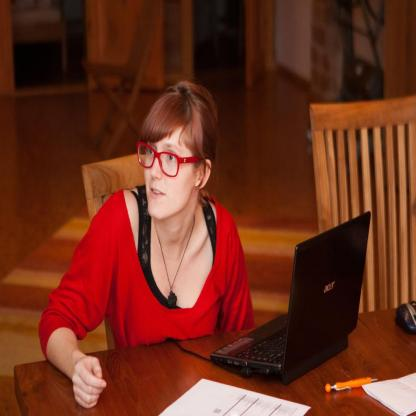board: (209, 210, 371, 381)
